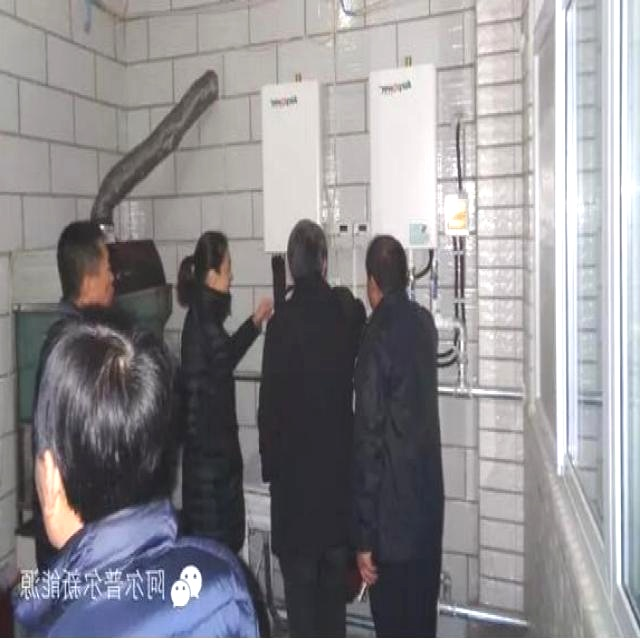Sin_Casco_Mascarrilla: (57, 221, 113, 311), (364, 234, 409, 308), (193, 231, 235, 301), (288, 220, 327, 287)
